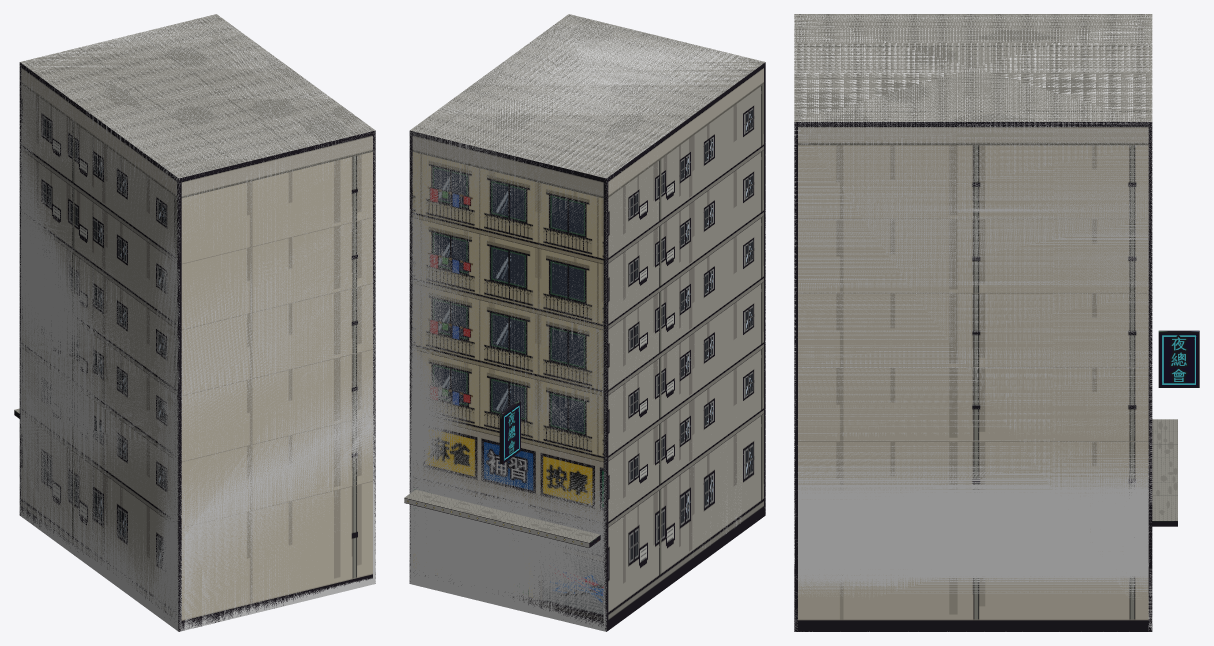
The picture shows the model from 3 angles, left to right: view 1: azimuth 30°, elevation 25°; view 2: azimuth 150°, elevation 25°; view 3: azimuth 270°, elevation 25°; orthographic projection. The views are drawn at different scales.
Visible parts, largest first — view 1: 19D-W11, COL_19D-W11_0; view 2: 19D-W11, COL_19D-W11_0; view 3: 19D-W11, COL_19D-W11_0.
Part boxes in pixels (x1,y1,x2,y2): 19D-W11: (14,14,375,631); COL_19D-W11_0: (19,14,375,631); 19D-W11: (404,14,765,631); COL_19D-W11_0: (409,14,765,631); 19D-W11: (794,14,1199,631); COL_19D-W11_0: (794,14,1152,631).
Bounding box in the file's own units: 10 × 22 × 15.85.
Materials: 1 (1 with a texture image).
